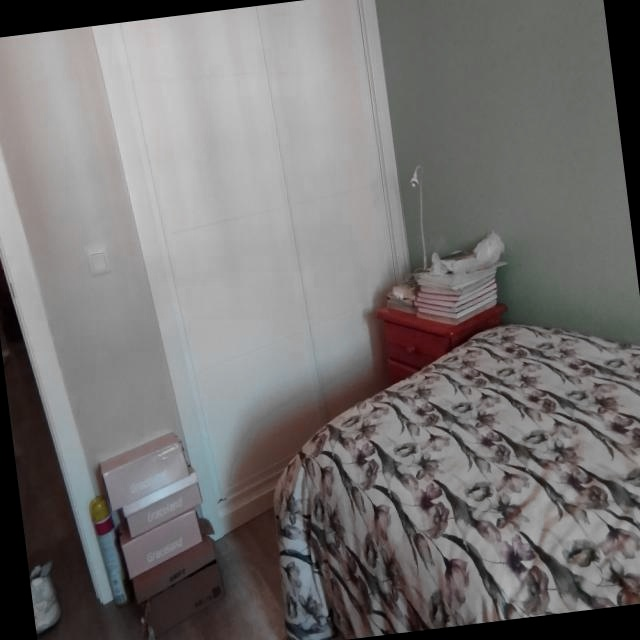bed: (274, 324, 640, 640)
lamp: (408, 165, 426, 266)
nighttable: (372, 302, 506, 383)
toilet: (91, 0, 408, 540)
